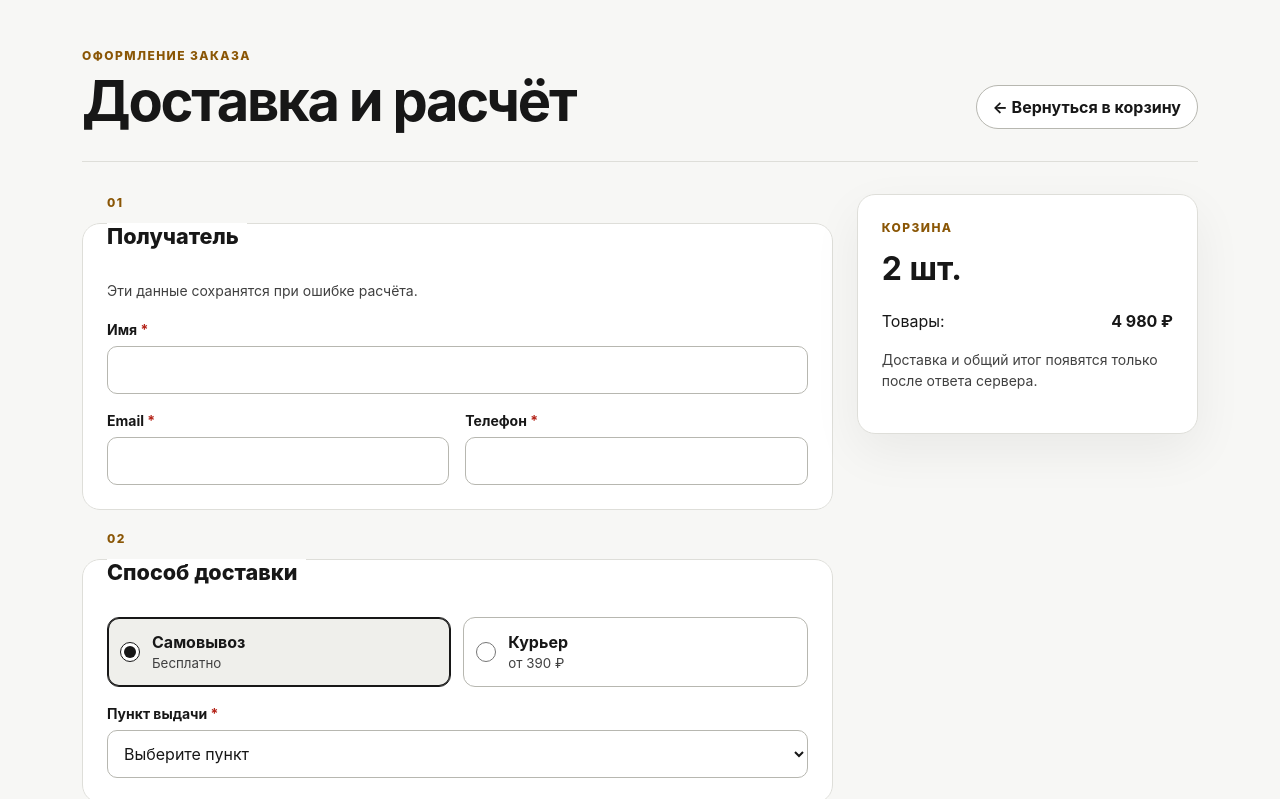
Scenario: Checkout Page › QUOTE_EXPIRED clears the Quote intent and preserves form input
Type "Тестовый Покупатель" into the field labelled "Имя *".
click(457, 370); type("Тестовый Покупатель")  # box [107,346,808,394]
Type "buyer@example.test" into the field labelled "Email *".
click(278, 461); type("buyer@example.test")  # box [107,437,449,485]
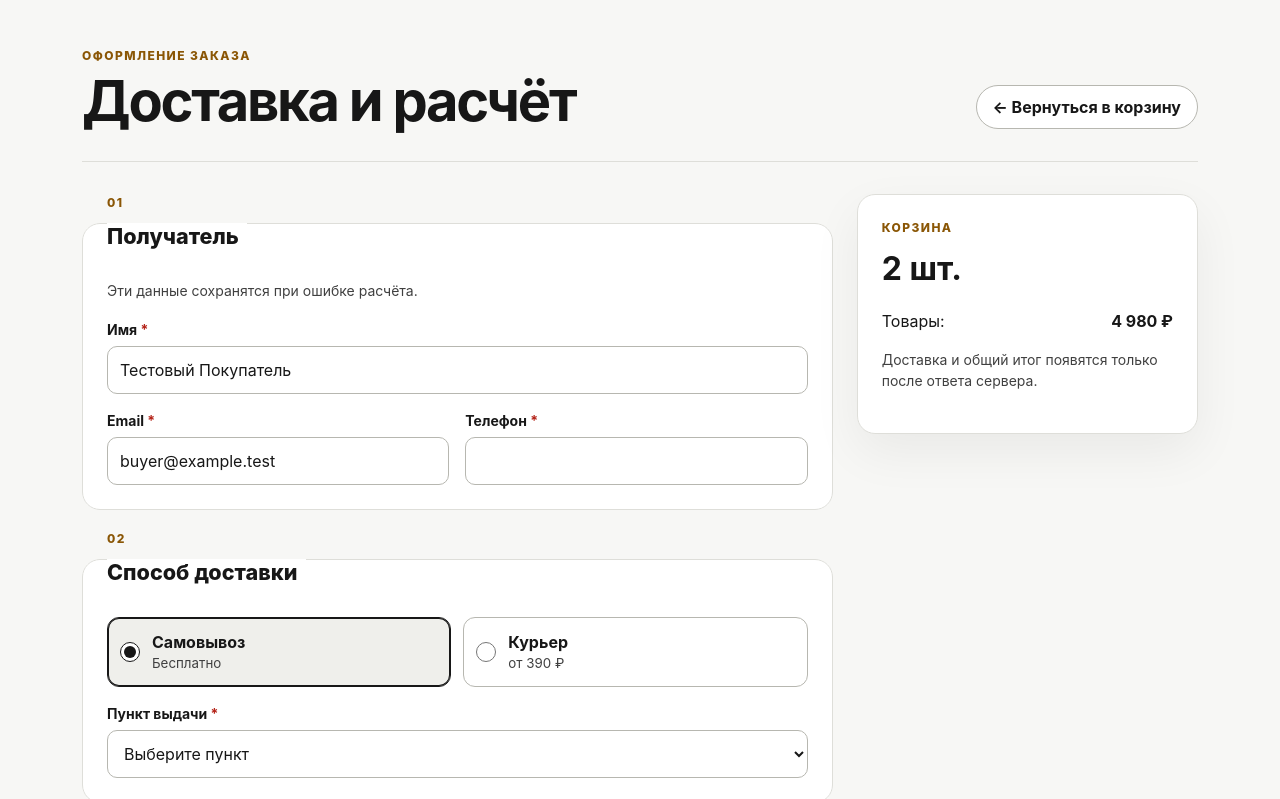
Type "+79990000000" into the field labelled "Телефон *".
click(637, 461); type("+79990000000")  # box [465,437,808,485]
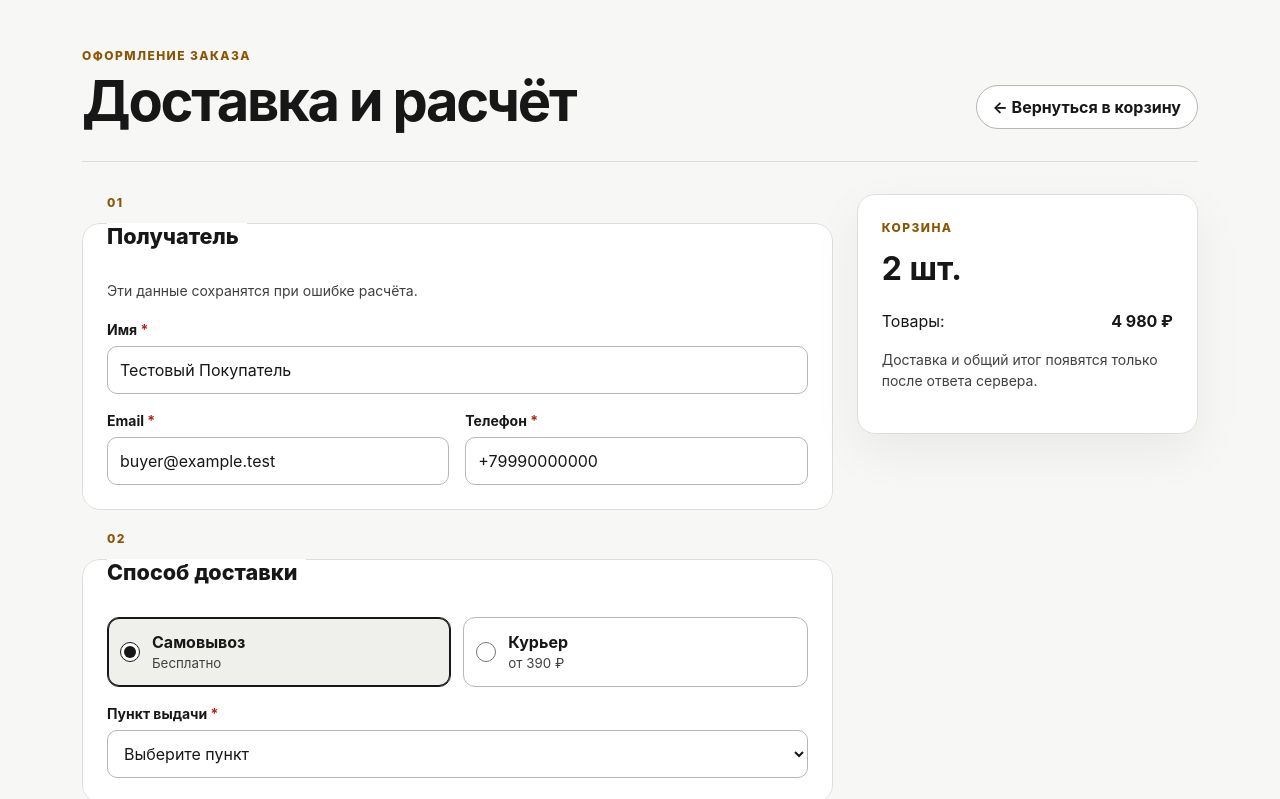
Select "Центр — Учебная, 1" in the dropdown labelled "Пункт выдачи *" at (457, 754), box [107,730,808,778]
(page scrolled)
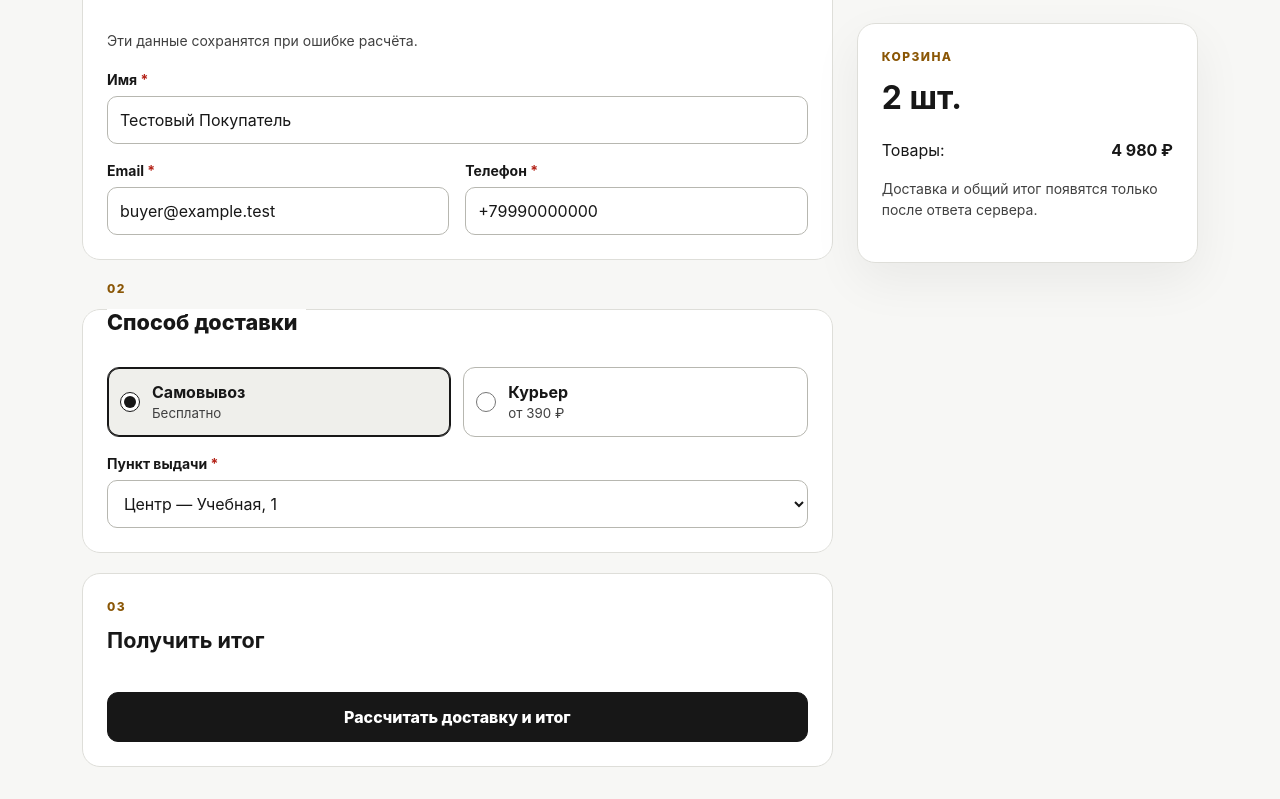
Click the button "Рассчитать доставку и итог".
click(457, 717)  # box [107,692,808,742]
(page scrolled)
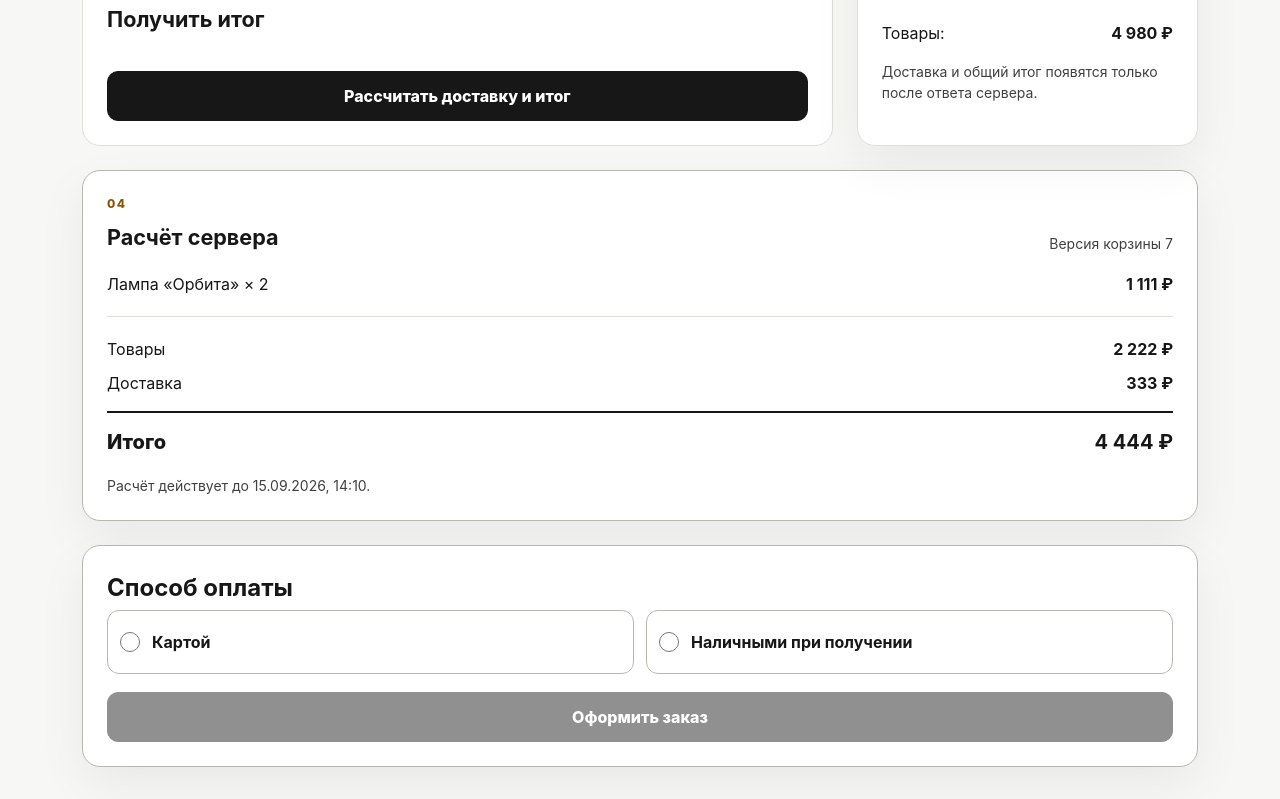
Result: the heading "Способ оплаты" is shown at [107,572,293,602]
Click the radio button labelled "Наличными при получении".
click(669, 642)  # box [659,632,679,652]
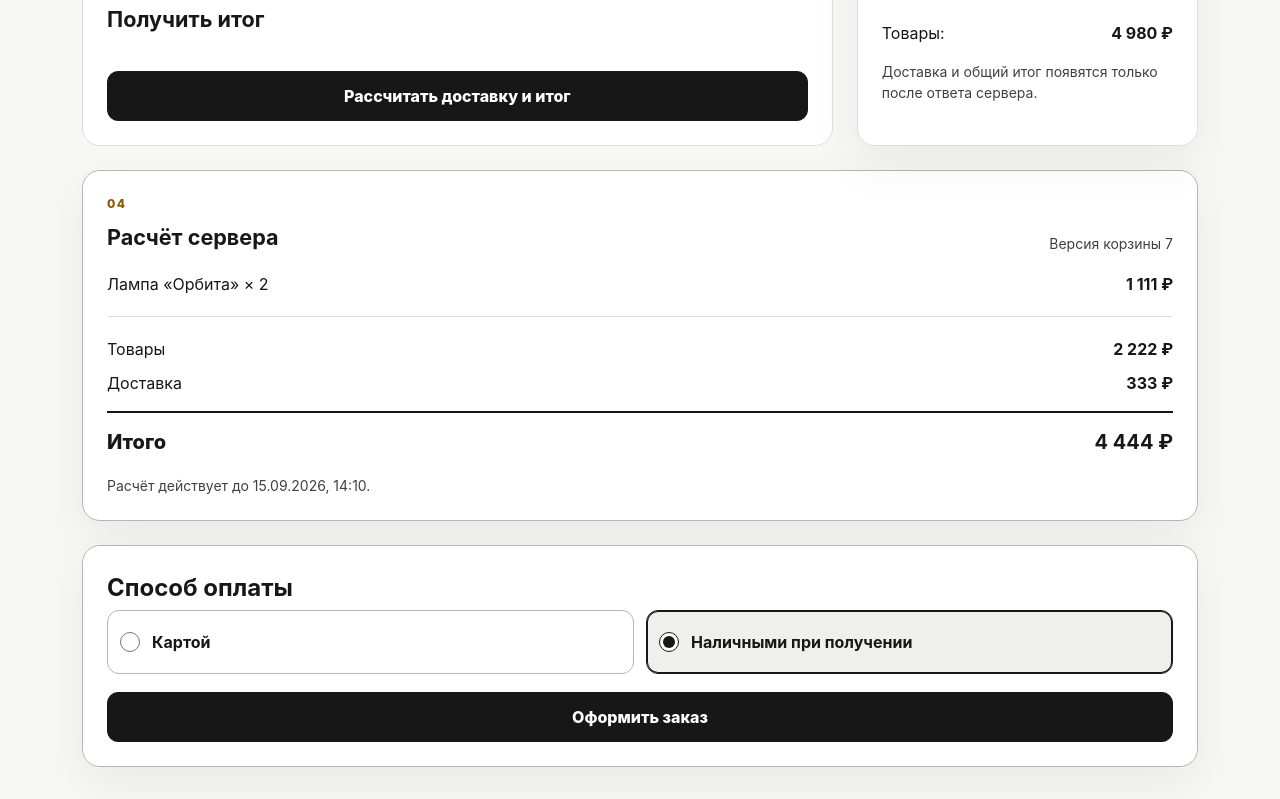
Click the button "Оформить заказ".
click(640, 716)  # box [107,692,1173,742]
(page scrolled)
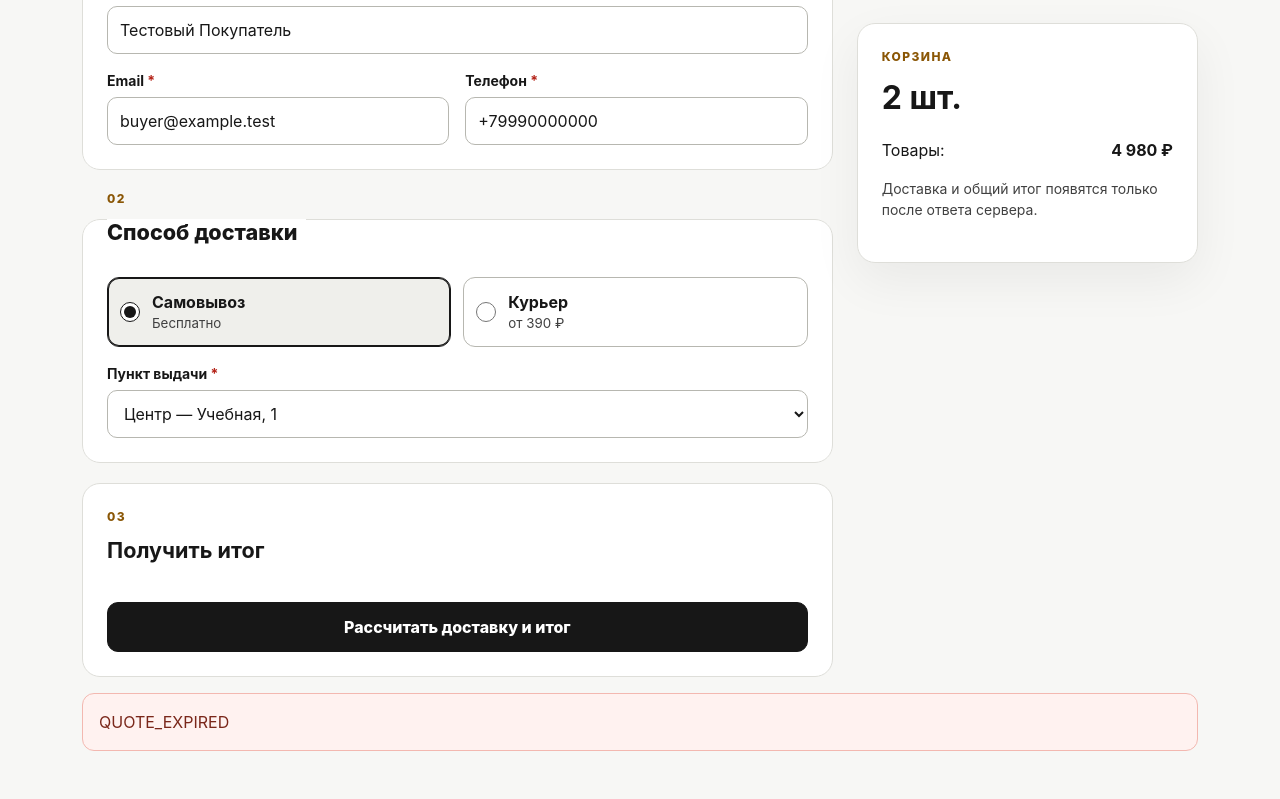
Result: the heading "Способ оплаты" is gone
